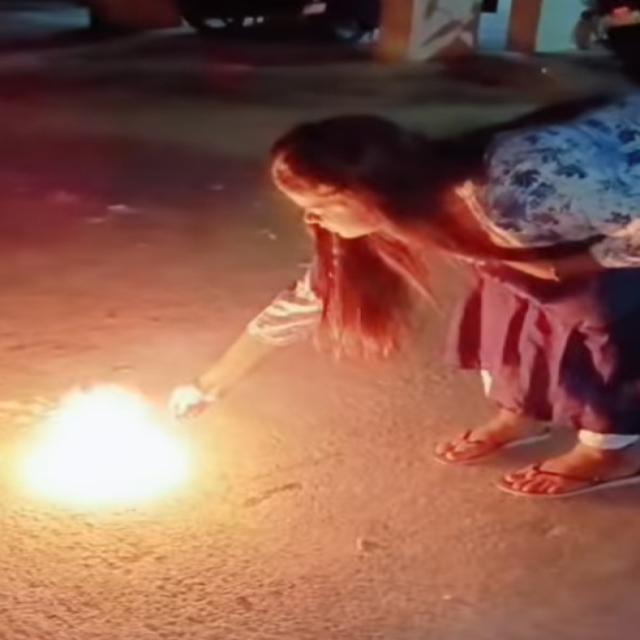fire: (172, 93, 640, 500), (0, 382, 199, 520)
